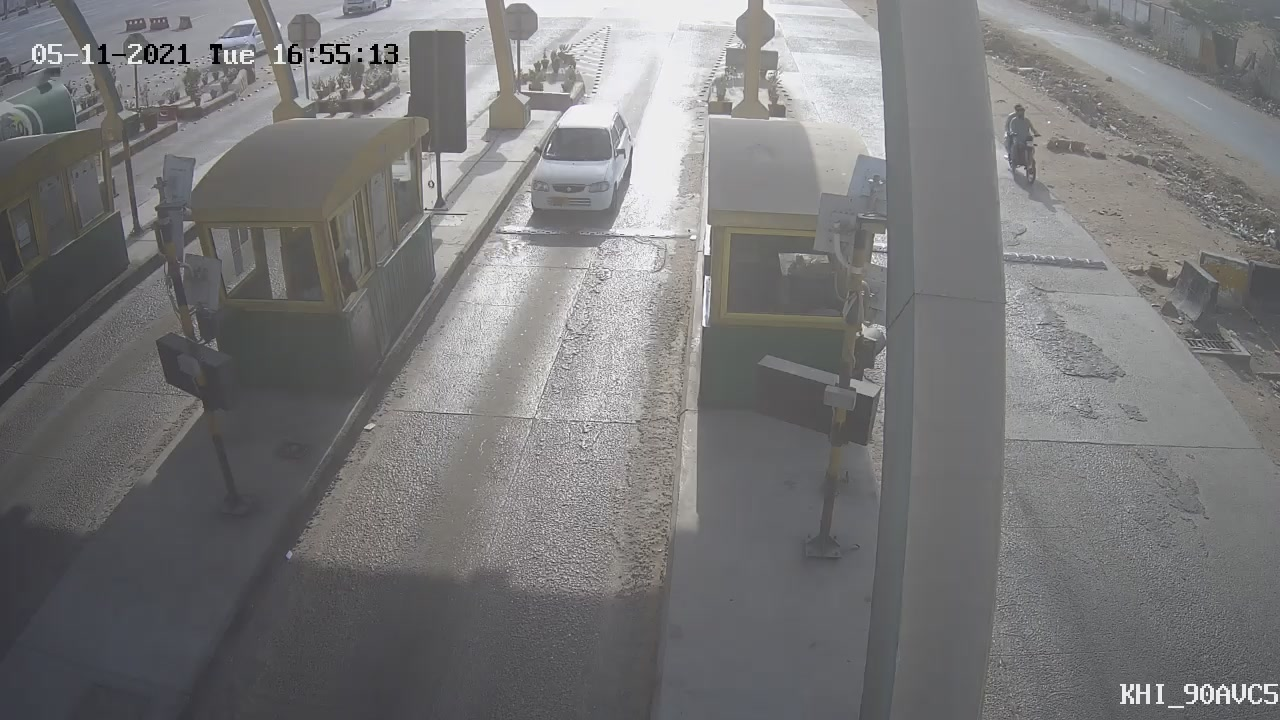F1: (507, 88, 656, 249)
